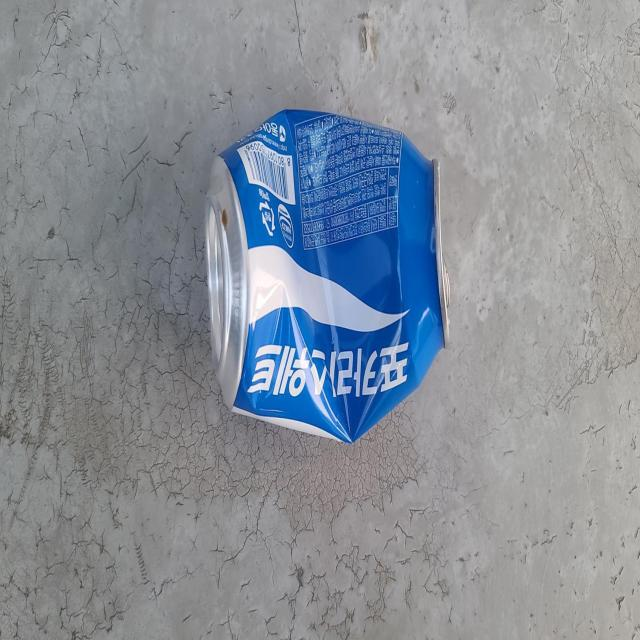can: (205, 108, 450, 442)
